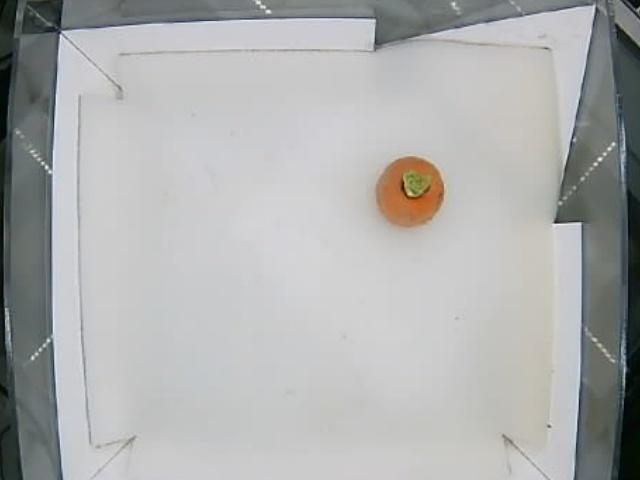Carrot: (375, 155, 443, 228)
